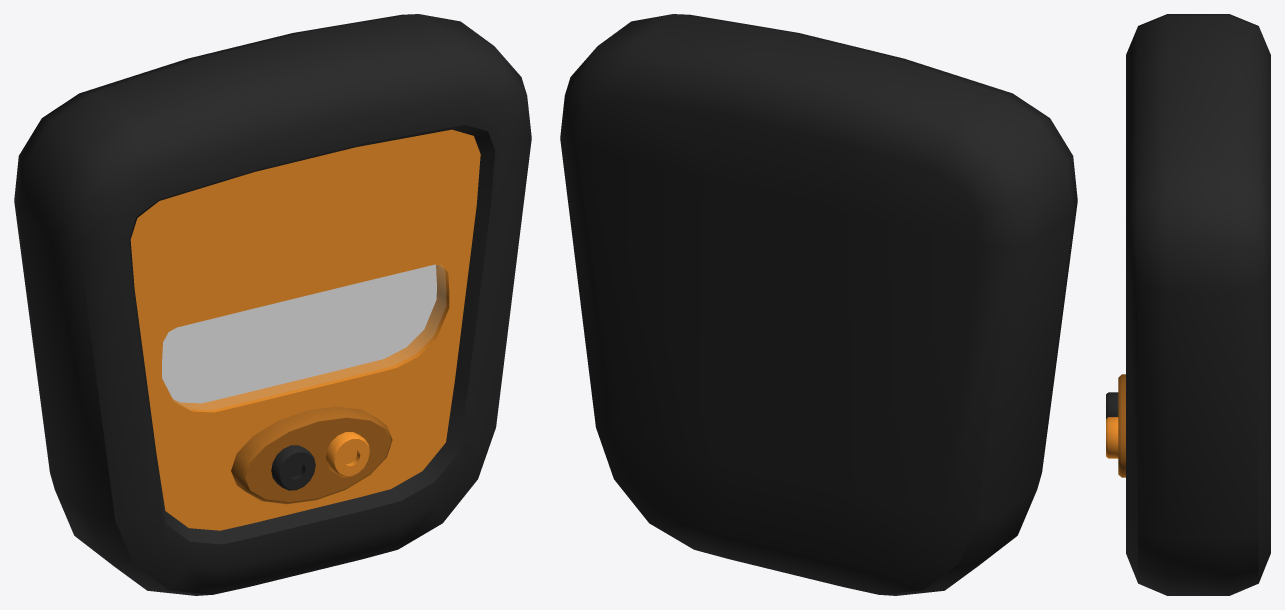
Rendered from Multimetro.fbx.
3 views of the same model, side by side, from view 1: azimuth 30°, elevation 25°; view 2: azimuth 150°, elevation 25°; view 3: azimuth 270°, elevation 25° (orthographic). The views are drawn at different scales.
Visible parts, largest first — view 1: Corpo, Vidro; view 2: Corpo; view 3: Corpo.
Boxes of the visible parts, x1,y1,x2,y2 form: Corpo: [14, 14, 531, 595]; Vidro: [162, 265, 445, 409]; Corpo: [560, 14, 1077, 595]; Corpo: [1106, 14, 1270, 595].
Bounding box in the file's own units: 234 × 238 × 76.31.
